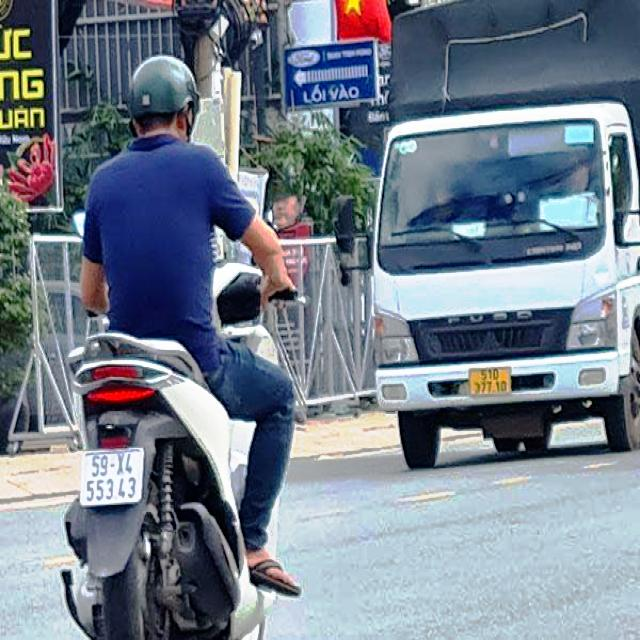license_plate: (79, 451, 144, 507)
